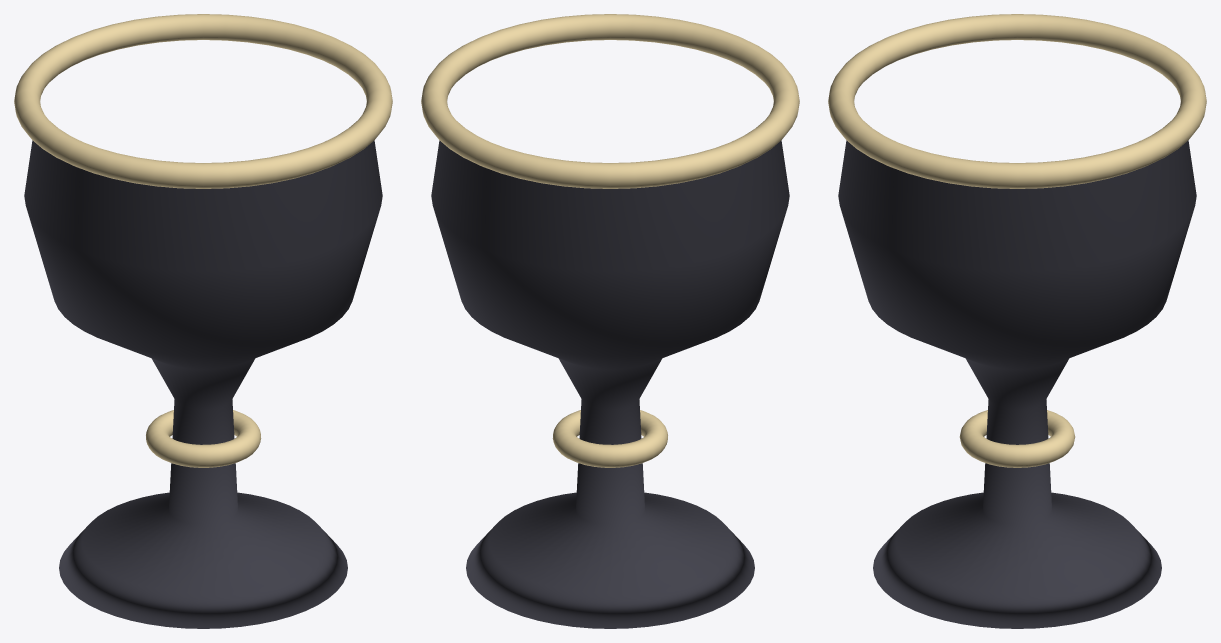
Rendered from chalice.glb.
The picture shows the model from 3 angles, left to right: view 1: azimuth 30°, elevation 25°; view 2: azimuth 150°, elevation 25°; view 3: azimuth 270°, elevation 25°; orthographic projection.
Visible parts, largest first — view 1: cup, rim, stemRing; view 2: cup, rim, stemRing; view 3: cup, rim, stemRing.
Part boxes in pixels (x1,y1,x2,y2): cup: [24, 140, 382, 628]; rim: [14, 14, 392, 188]; stemRing: [146, 410, 261, 467]; cup: [431, 140, 789, 628]; rim: [421, 14, 799, 188]; stemRing: [552, 410, 667, 467]; cup: [838, 140, 1196, 628]; rim: [828, 14, 1206, 188]; stemRing: [959, 410, 1075, 467].
Bounding box in the file's own units: 1.31 × 1.82 × 1.31.
